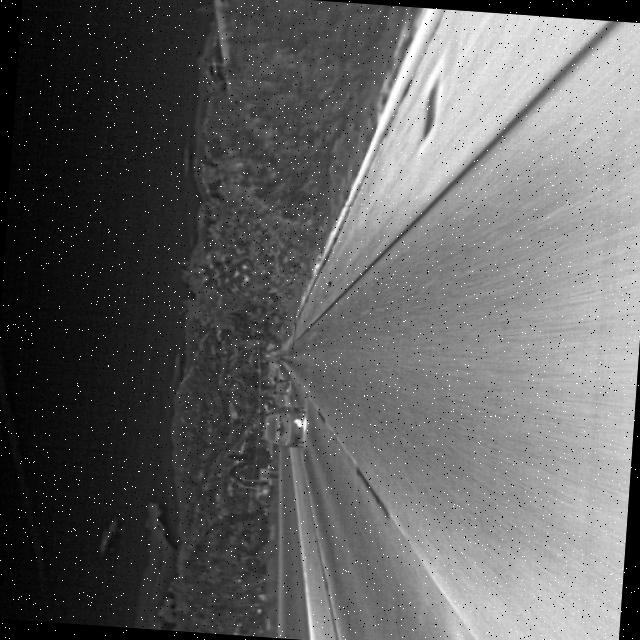Vehicle: (260, 403, 308, 448), (272, 376, 292, 396)
